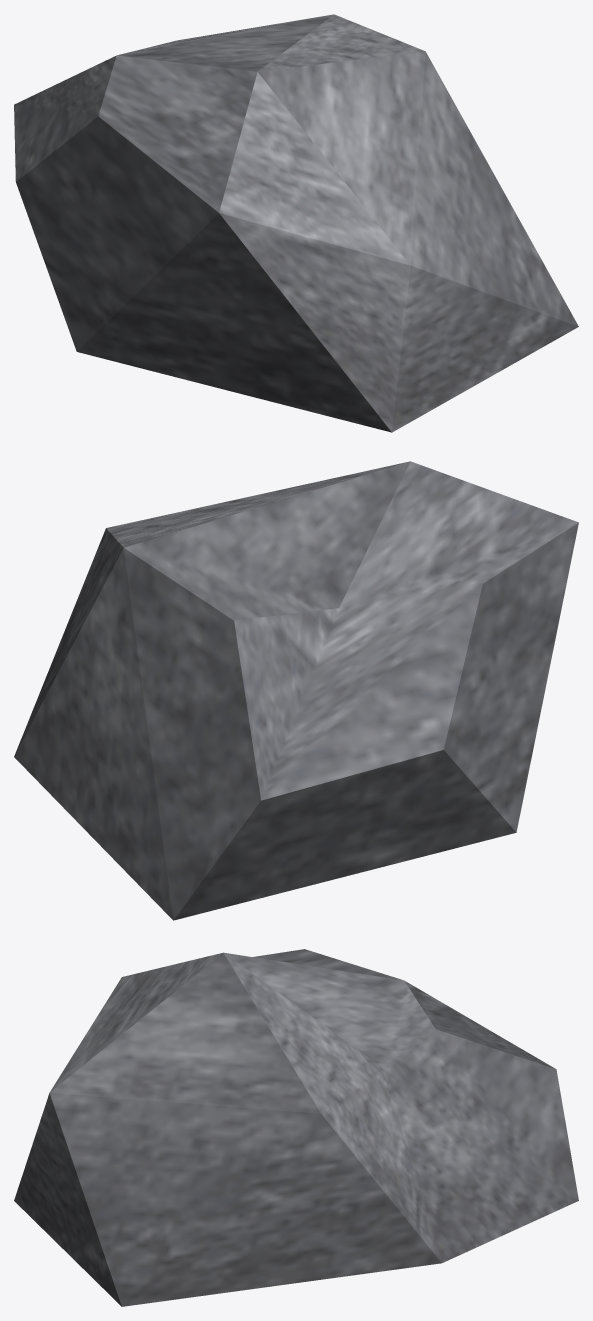
The model's file is RockMesh.fbx.
The picture shows the model from 3 angles, top to bottom: view 1: azimuth 30°, elevation 25°; view 2: azimuth 150°, elevation 25°; view 3: azimuth 270°, elevation 25°; orthographic projection. The views are drawn at different scales.
Visible parts, largest first — view 1: Icosphere; view 2: Icosphere; view 3: Icosphere.
Part boxes in pixels (box(x1,y1,x2,y2)): Icosphere: box(14, 14, 578, 432); Icosphere: box(14, 461, 578, 920); Icosphere: box(14, 949, 578, 1306).
Bounding box in the file's own units: 116 × 91.97 × 162.
